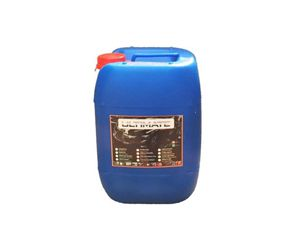Cleaning_solution: (87, 40, 204, 206)
